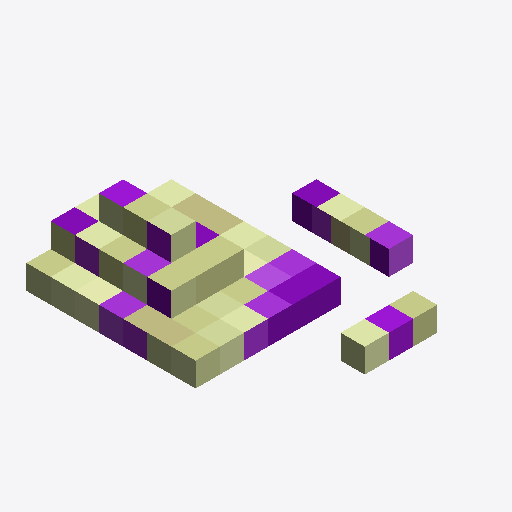
Isometric view (azimuth 45°, elevation 35.3°) of a Minecraft model made of 5 cuboids, textured from the same repository.
Parts seen in each view (by area): element 1, element 2, element 4, element 3, element 5.
Boxes of the visible parts, x1=… form: element 1: x1=26, y1=179, x2=340, y2=387; element 2: x1=51, y1=193, x2=243, y2=318; element 4: x1=292, y1=179, x2=412, y2=276; element 3: x1=99, y1=180, x2=195, y2=262; element 5: x1=341, y1=291, x2=436, y2=373.
Bounding box in the file's own units: 9 × 3 × 10.